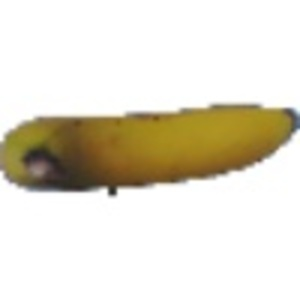banana: (3, 95, 296, 205)
